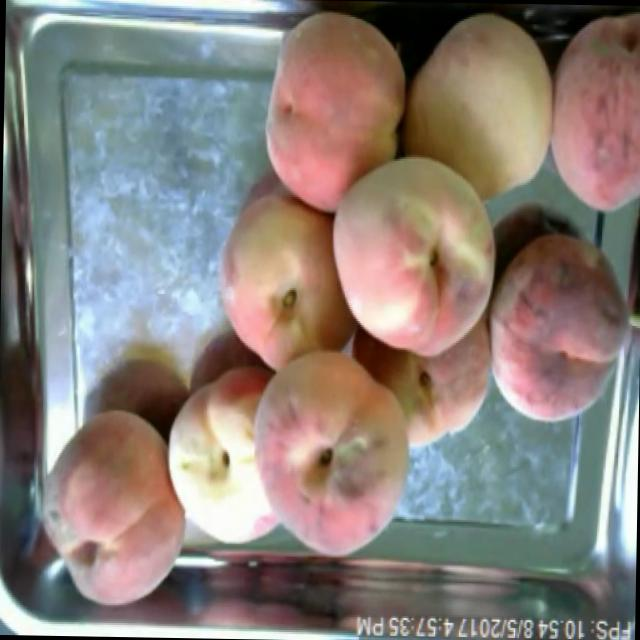Fruit: (312, 127, 504, 370), (234, 338, 420, 564), (245, 0, 407, 230), (33, 397, 197, 624), (481, 3, 640, 232), (486, 208, 640, 431), (404, 2, 556, 225), (204, 179, 356, 384)
